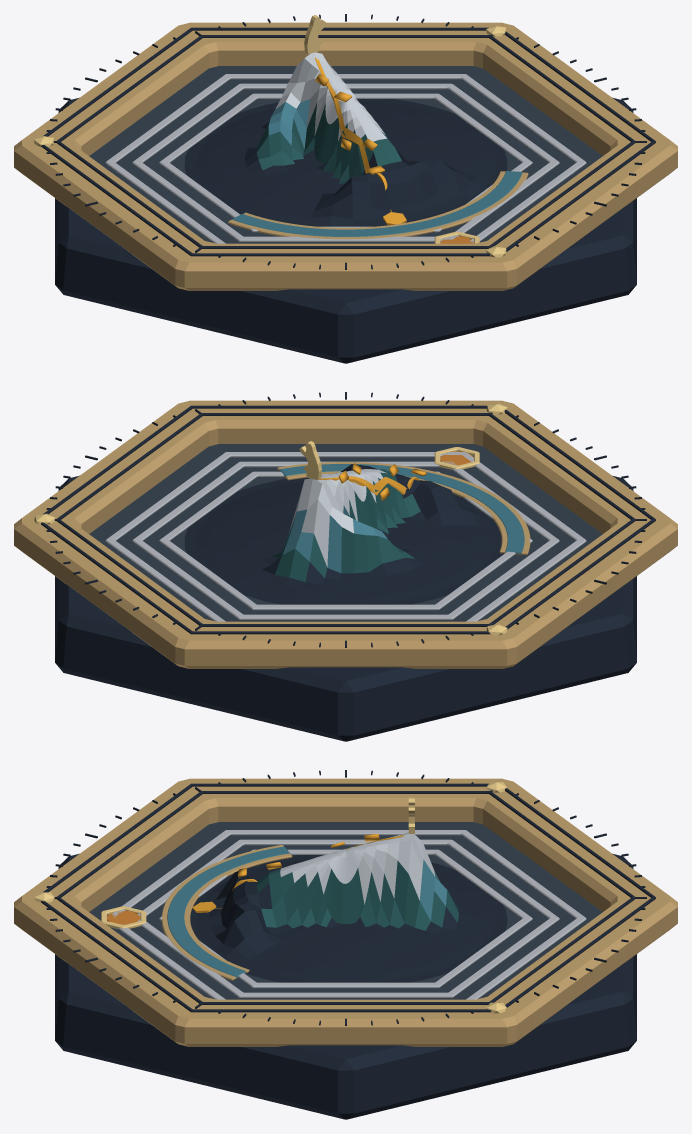
Rendered from first_step.glb.
3 renders of one model, top to bottom at view 1: azimuth 30°, elevation 25°; view 2: azimuth 150°, elevation 25°; view 3: azimuth 270°, elevation 25°, orthographic.
Visible parts, largest first — view 1: BG_FrameRing, BG_BasePlate, BG_Mountain, BG_Field, BG_Contour1, BG_Contour2, BG_RingGroove1, BG_RingGroove0, BG_Contour0, BG_EnamelArc, BG_EnamelBezel, BG_TickScale (+3 smaller); view 2: BG_FrameRing, BG_BasePlate, BG_Mountain, BG_Field, BG_Contour1, BG_Contour2, BG_RingGroove1, BG_RingGroove0, BG_Contour0, BG_EnamelArc, BG_EnamelBezel, BG_TickScale (+3 smaller); view 3: BG_FrameRing, BG_BasePlate, BG_Mountain, BG_Field, BG_Contour1, BG_Contour2, BG_RingGroove1, BG_RingGroove0, BG_Contour0, BG_EnamelArc, BG_EnamelBezel, BG_TickScale (+1 smaller).
Boxes of the visible parts, box(x1,y1,x2,y2) form: BG_FrameRing: box(14, 22, 677, 290); BG_BasePlate: box(55, 97, 636, 363); BG_Mountain: box(184, 52, 507, 226); BG_Field: box(89, 66, 602, 243); BG_Contour1: box(132, 83, 559, 241); BG_Contour2: box(105, 74, 586, 243); BG_RingGroove1: box(41, 27, 655, 256); BG_RingGroove0: box(56, 35, 635, 248); BG_Contour0: box(159, 93, 532, 232); BG_EnamelArc: box(232, 171, 522, 236); BG_EnamelBezel: box(228, 171, 528, 239); BG_TickScale: box(46, 14, 646, 269); BG_FrameRing: box(14, 400, 677, 668); BG_BasePlate: box(55, 475, 636, 741); BG_Mountain: box(184, 464, 504, 604); BG_Field: box(89, 444, 602, 621); BG_Contour1: box(132, 461, 559, 619); BG_Contour2: box(105, 452, 586, 621); BG_RingGroove1: box(41, 405, 655, 634); BG_RingGroove0: box(56, 413, 635, 626); BG_Contour0: box(159, 471, 532, 610); BG_EnamelArc: box(279, 464, 524, 553); BG_EnamelBezel: box(277, 462, 530, 554); BG_TickScale: box(46, 392, 646, 647); BG_FrameRing: box(14, 778, 677, 1046); BG_BasePlate: box(55, 853, 636, 1119); BG_Mountain: box(190, 832, 507, 988); BG_Field: box(89, 822, 602, 999); BG_Contour1: box(137, 839, 559, 997); BG_Contour2: box(112, 830, 586, 999); BG_RingGroove1: box(41, 783, 655, 1012); BG_RingGroove0: box(56, 791, 635, 1004); BG_Contour0: box(159, 849, 532, 988); BG_EnamelArc: box(167, 846, 290, 977); BG_EnamelBezel: box(161, 845, 292, 980); BG_TickScale: box(46, 770, 646, 1025).
Size of the model in its own units: 0.0393 by 0.0127 by 0.0394.
